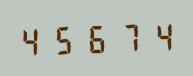five: (49, 21, 79, 56)
four: (18, 22, 48, 57), (142, 18, 172, 53)
seven: (111, 19, 141, 54)
six: (80, 20, 110, 55)
